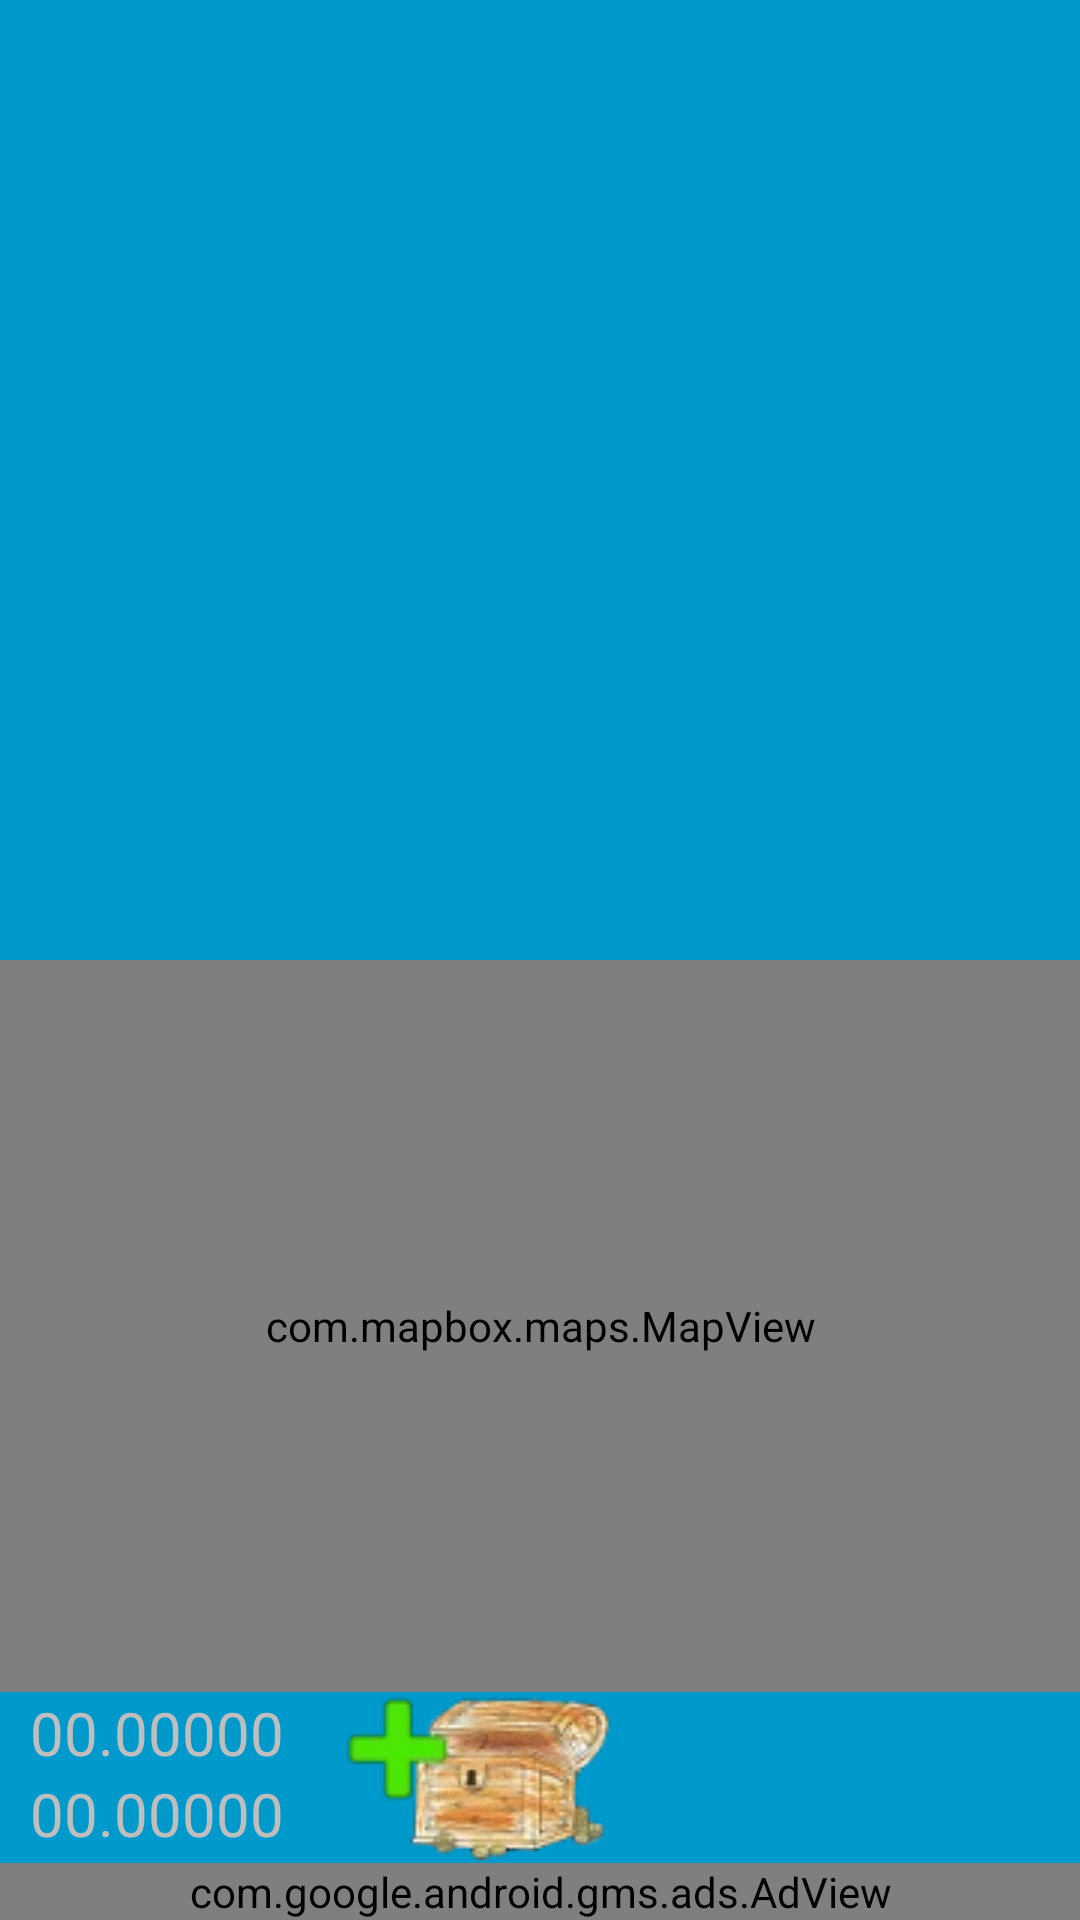

Icons on this 1080×1920 Android screen, each with its box as detection(x1, y1, x2, y2):
chest add: detection(347, 1698, 611, 1861)
